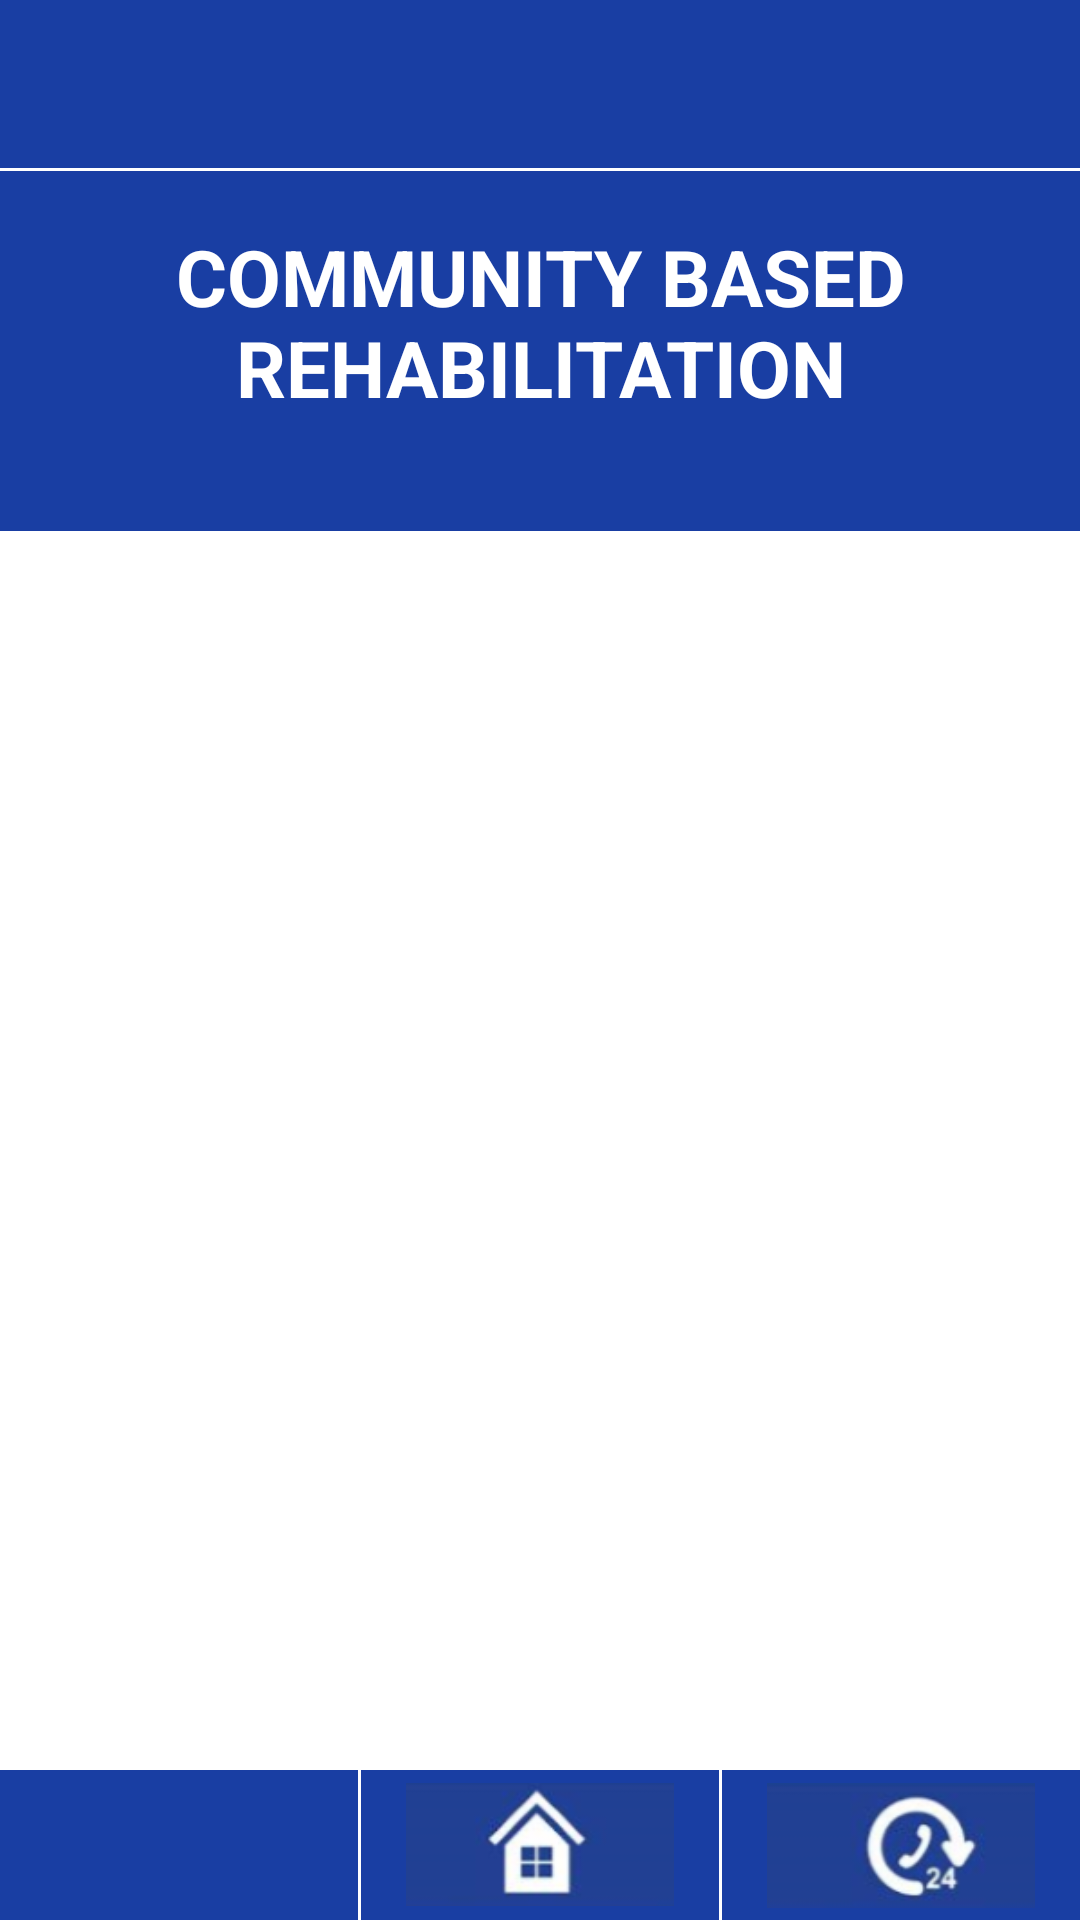

Icons on this 1080w x 1920h Android screen, each with its box as BBox(x1, y1, x2, y2):
call center: BBox(722, 1770, 1080, 1920)
home: BBox(361, 1770, 719, 1920)
